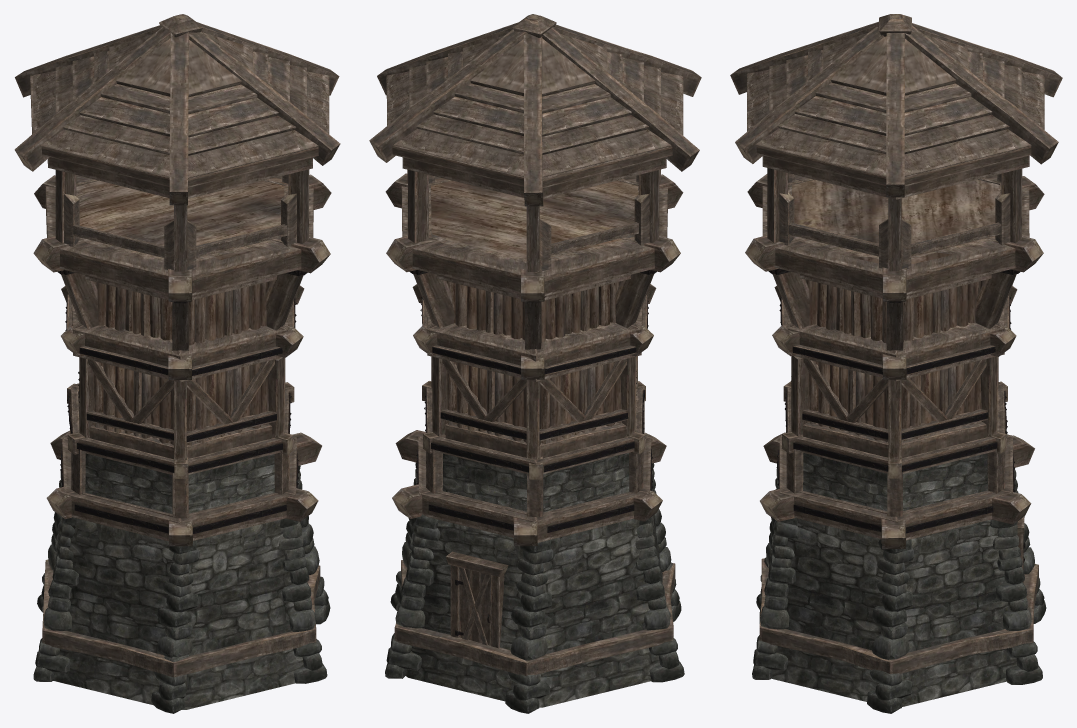
File: JAV_Struc_Def_TrueStone_TowerBC-transformed.glb
3 views of the same model, side by side, from view 1: azimuth 30°, elevation 25°; view 2: azimuth 150°, elevation 25°; view 3: azimuth 270°, elevation 25° (orthographic).
Visible parts, largest first — view 1: default; view 2: default; view 3: default.
Boxes of the visible parts, box(x1,y1,x2,y2) form: default: box(14, 14, 340, 713); default: box(369, 14, 701, 713); default: box(730, 14, 1062, 713).
Size of the model in its own units: 9.97 by 19.02 by 9.11.
Materials: 3 (3 with a texture image).
